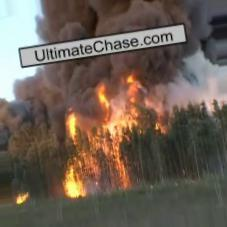fire: (102, 135, 129, 184), (57, 165, 90, 202), (95, 84, 113, 121), (125, 77, 140, 119), (10, 184, 36, 208), (64, 108, 78, 142)
smoke: (141, 52, 227, 113), (8, 69, 95, 110)
